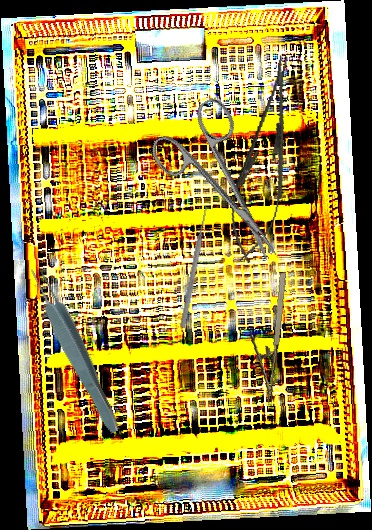Iris Scissors: (142, 93, 307, 283)
Needle Holder: (220, 49, 310, 268), (241, 270, 290, 405)
Pusher: (178, 205, 211, 329)
Tissue Forceps: (24, 261, 127, 438)
